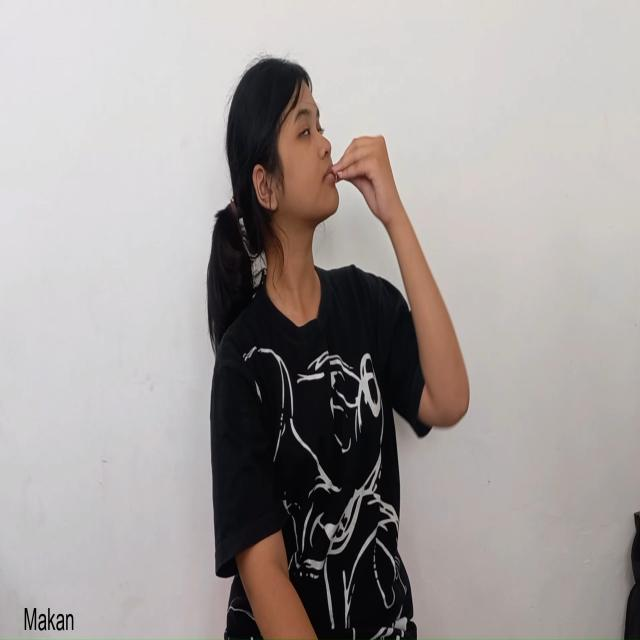Makan -BISINDO-: (252, 61, 401, 231)
